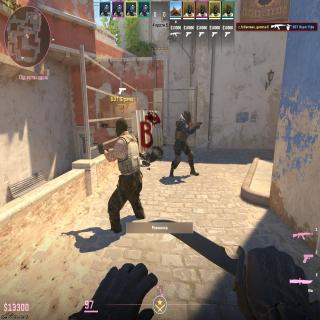CT-Body: (174, 109, 193, 174)
CT-Head: (183, 109, 192, 122)
T-Body: (114, 118, 142, 223)
T-Head: (115, 118, 128, 136)
